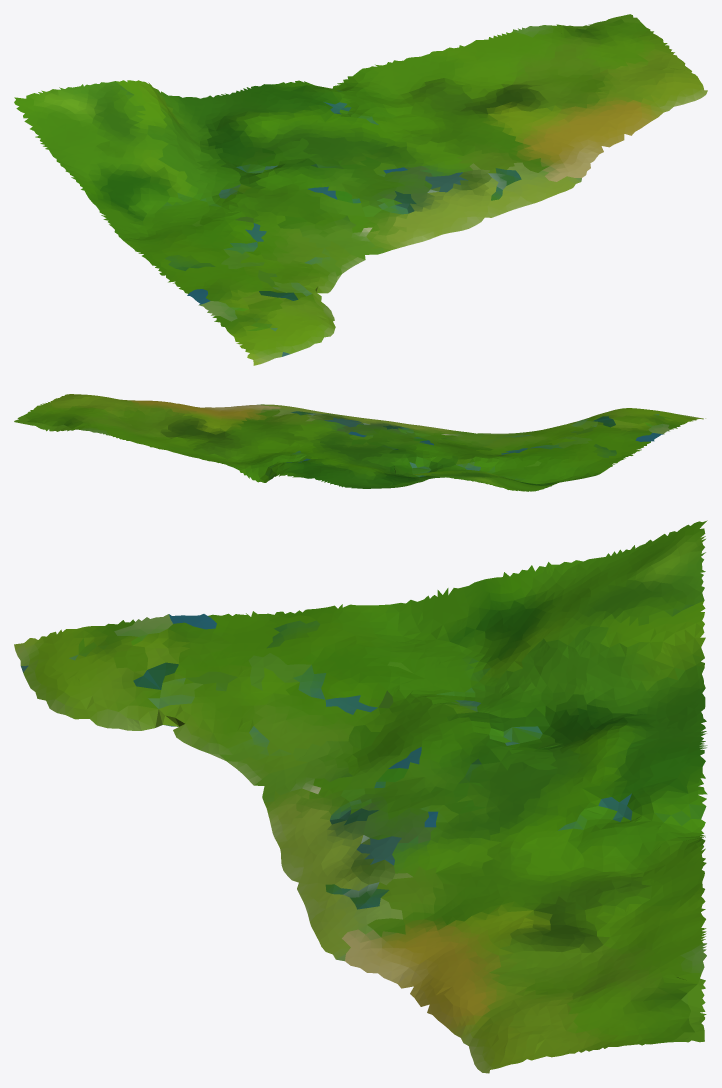
File: chunk_2_3_LOD0.glb
3 views of the same model, one above another, from view 1: azimuth 30°, elevation 25°; view 2: azimuth 150°, elevation 25°; view 3: azimuth 270°, elevation 25° (orthographic). The views are drawn at different scales.
Parts seen in each view (by area): view 1: world; view 2: world; view 3: world.
Part boxes in pixels (x1=…): world: x1=14, y1=14, x2=707, y2=365; world: x1=14, y1=394, x2=705, y2=491; world: x1=14, y1=520, x2=707, y2=1073.
Bounding box in the file's own units: 99.38 × 14.83 × 67.25.
1 material, 1 textured.
